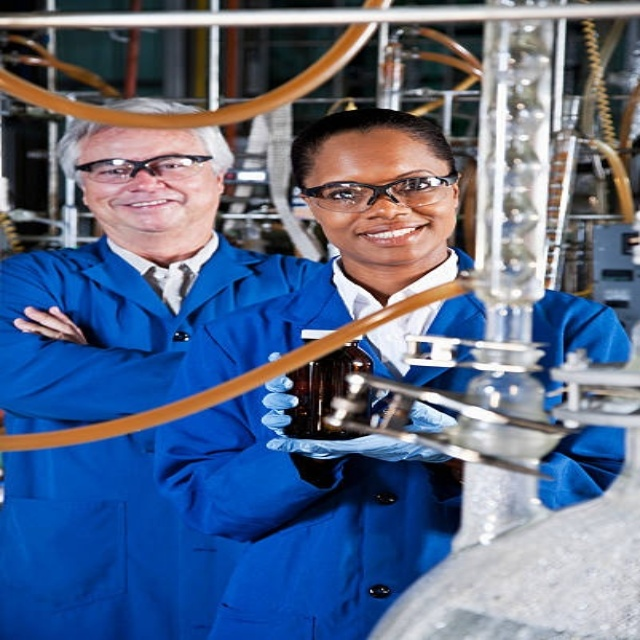Gafas: (297, 171, 461, 212), (75, 154, 215, 184)
Guantes: (267, 388, 448, 462), (260, 347, 292, 435)
Sin_guantes: (14, 304, 88, 344)
Sin_mascara: (350, 215, 429, 257), (112, 193, 180, 224)
